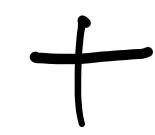plus: (29, 16, 153, 125)
